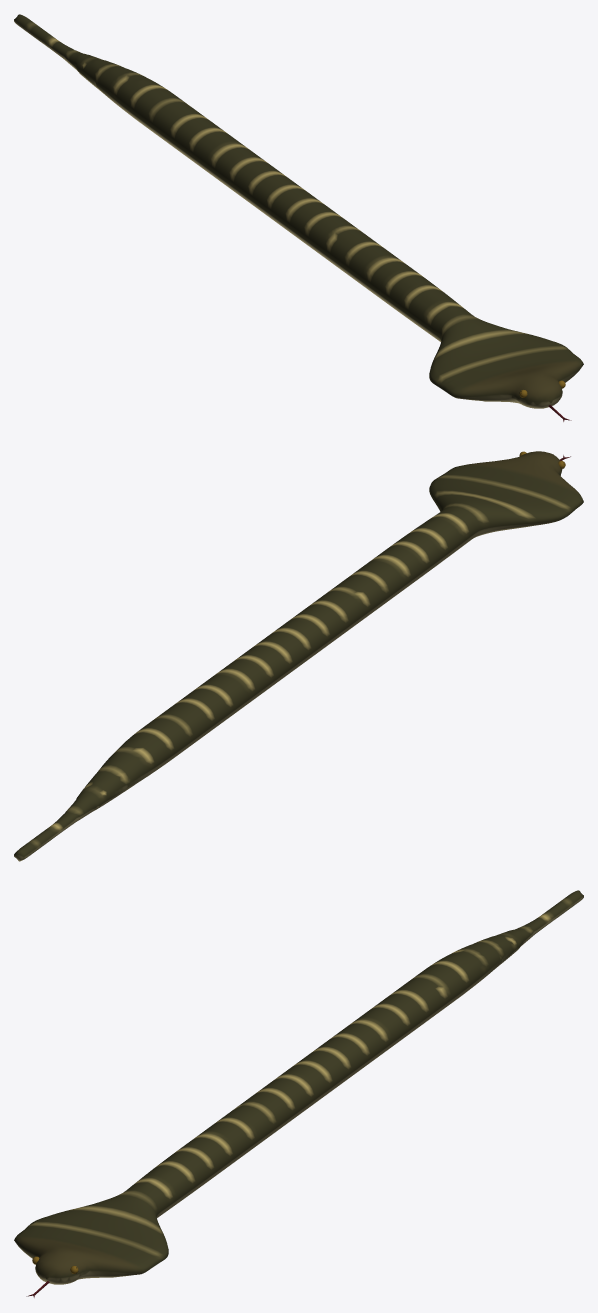
Rendered from OphiophagusHannah.fbx.
The picture shows the model from 3 angles, top to bottom: view 1: azimuth 30°, elevation 25°; view 2: azimuth 150°, elevation 25°; view 3: azimuth 330°, elevation 25°; orthographic projection.
Parts seen in each view (by area): view 1: OphiophagusHannah; view 2: OphiophagusHannah; view 3: OphiophagusHannah.
Boxes of the visible parts, x1,y1,x2,y2 form: OphiophagusHannah: [14, 14, 583, 421]; OphiophagusHannah: [14, 451, 583, 861]; OphiophagusHannah: [14, 890, 583, 1297].
Bounding box in the file's own units: 0.3509 × 0.0878 × 2.47.
